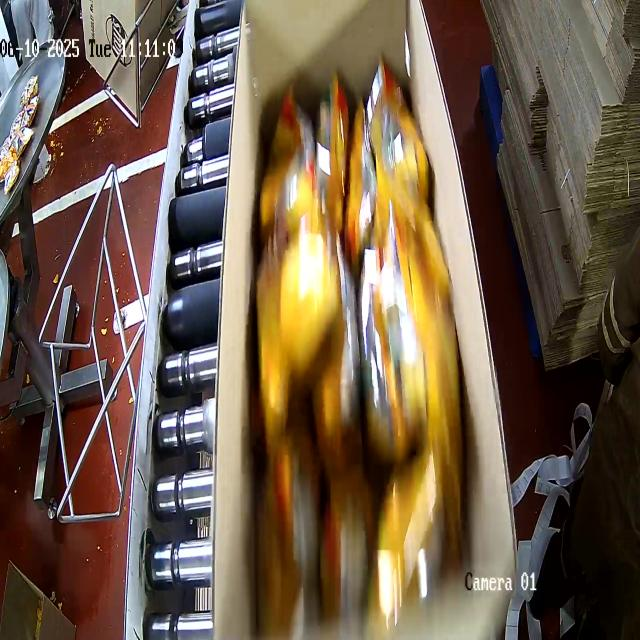FRENCH_CHEESE: (236, 59, 471, 640)
